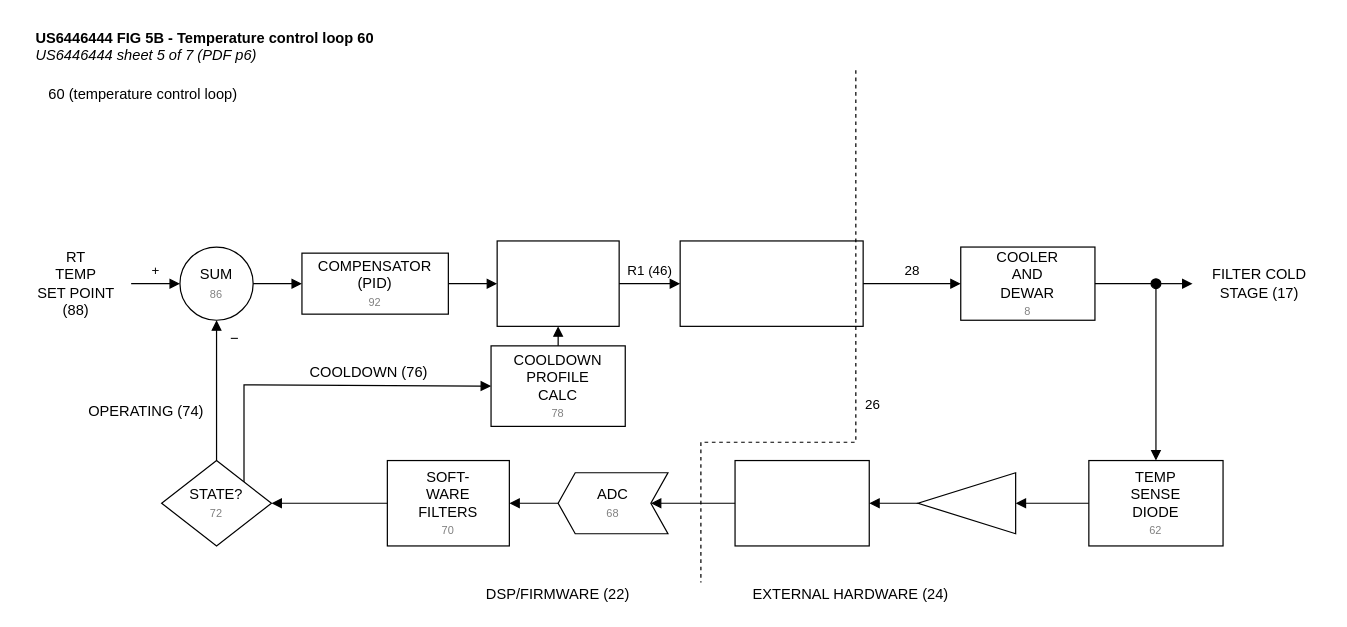
The diagram is 1347 pixels wide and 627 high, and some of its shapes have lost their labels. The centre of each missing label's shape, as x and y in pixels:
ANTI- ALIASING FILTER 66: point 801,502
BUFFER 64: point 966,503
COOLER DRIVE SIGNAL PROCESSING (FIG 5A loop) 20: point 771,283
DRIVE LEVEL SET 84: point 557,283
